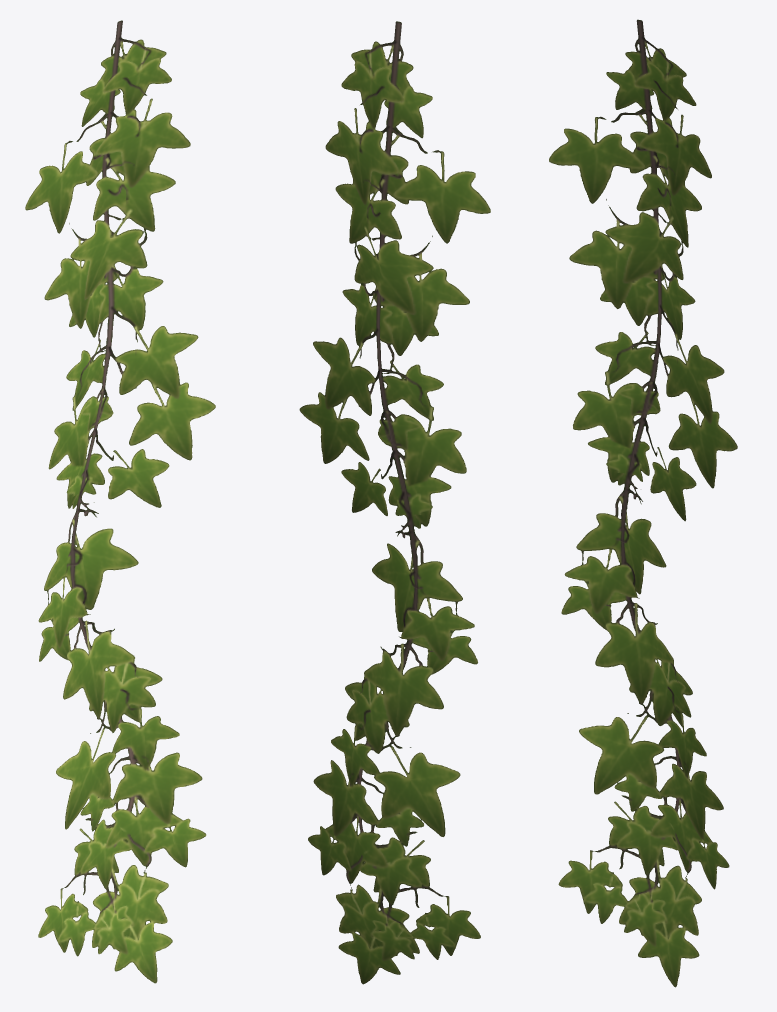
File: SM_ivy_single_long.fbx
3 views of the same model, side by side, from view 1: azimuth 30°, elevation 25°; view 2: azimuth 150°, elevation 25°; view 3: azimuth 330°, elevation 25° (orthographic).
Visible parts, largest first — view 1: SM_ivy_single_long; view 2: SM_ivy_single_long; view 3: SM_ivy_single_long.
Boxes of the visible parts, x1=… form: SM_ivy_single_long: x1=25, y1=20, x2=215, y2=983; SM_ivy_single_long: x1=299, y1=21, x2=490, y2=984; SM_ivy_single_long: x1=549, y1=19, x2=737, y2=987.
Bounding box in the file's own units: 21.98 × 89.34 × 2.63.
